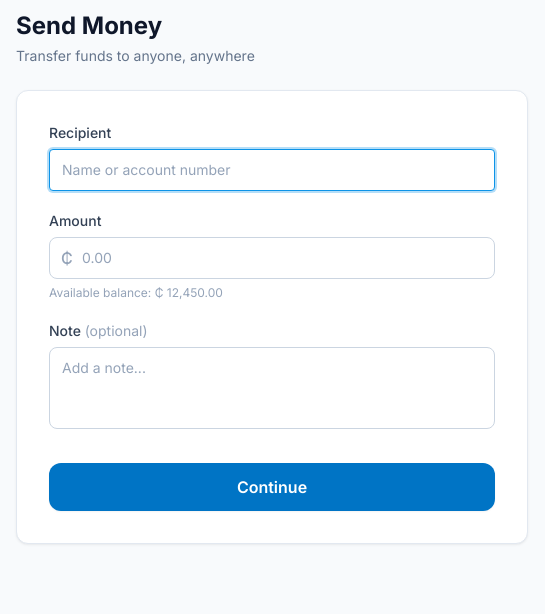
Test case: SendMoneyScreen › validates empty fields on submit and displays inline errors
What coordinates should you click on to do the following:
click the button "Continue"
I would click on:
 (272, 487)
Its box is [49,463,495,511].
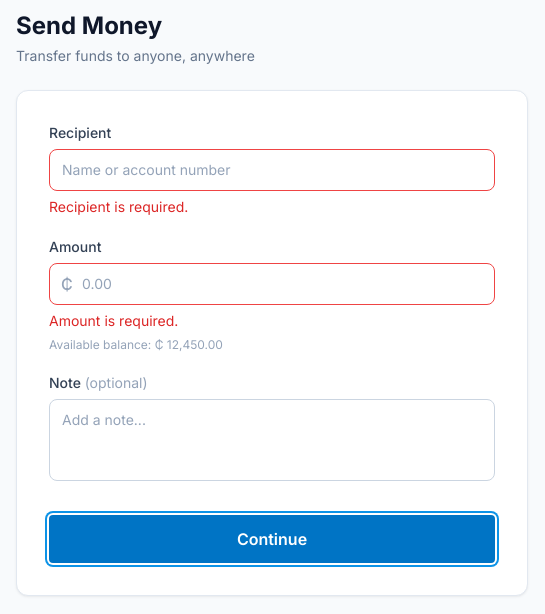
Result: the text "Recipient is required." is shown at [49,198,188,215]
Result: the text "Amount is required." is shown at [49,312,178,329]
